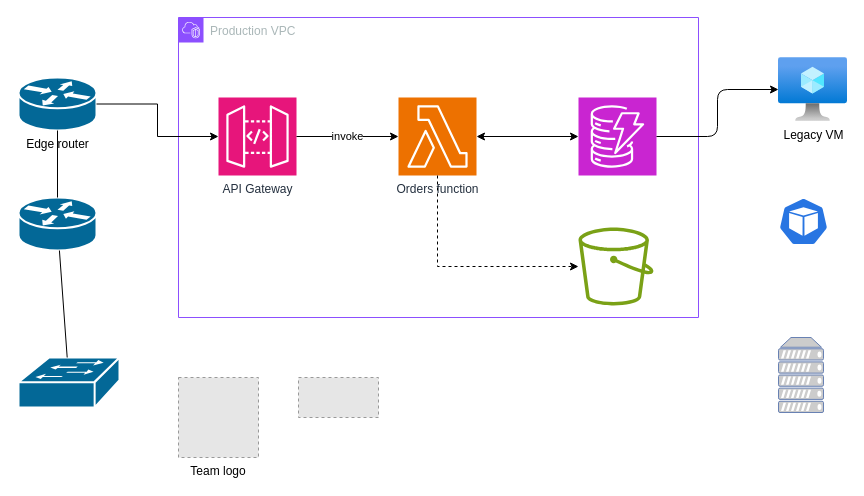
This 864x496 diagram has some shape labels left out. Grey dashed boxes stand in for pictures. The shapes that lost their labels are listed below. From the top down, each one's centre as x and y in pixels, then its label:
At (617,136): "orders".
At (68,382): "Core switch".
At (800,374): "Web server".
